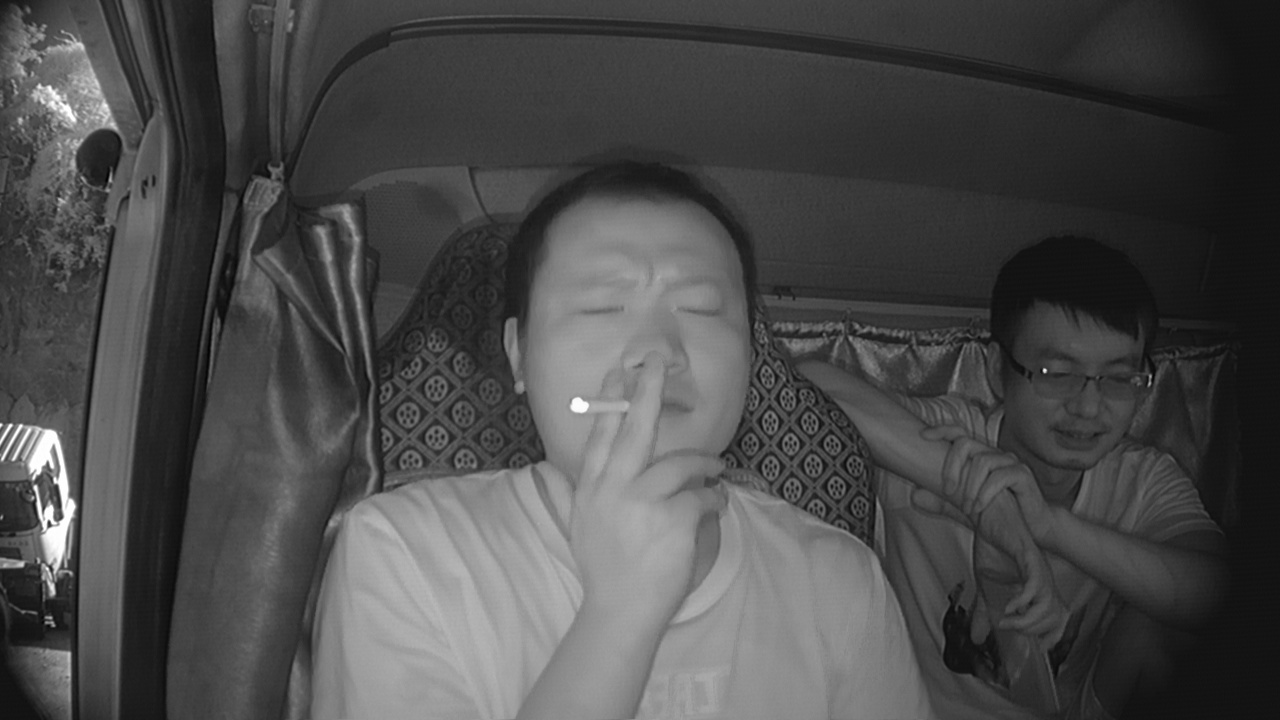hand: (561, 365, 723, 544)
